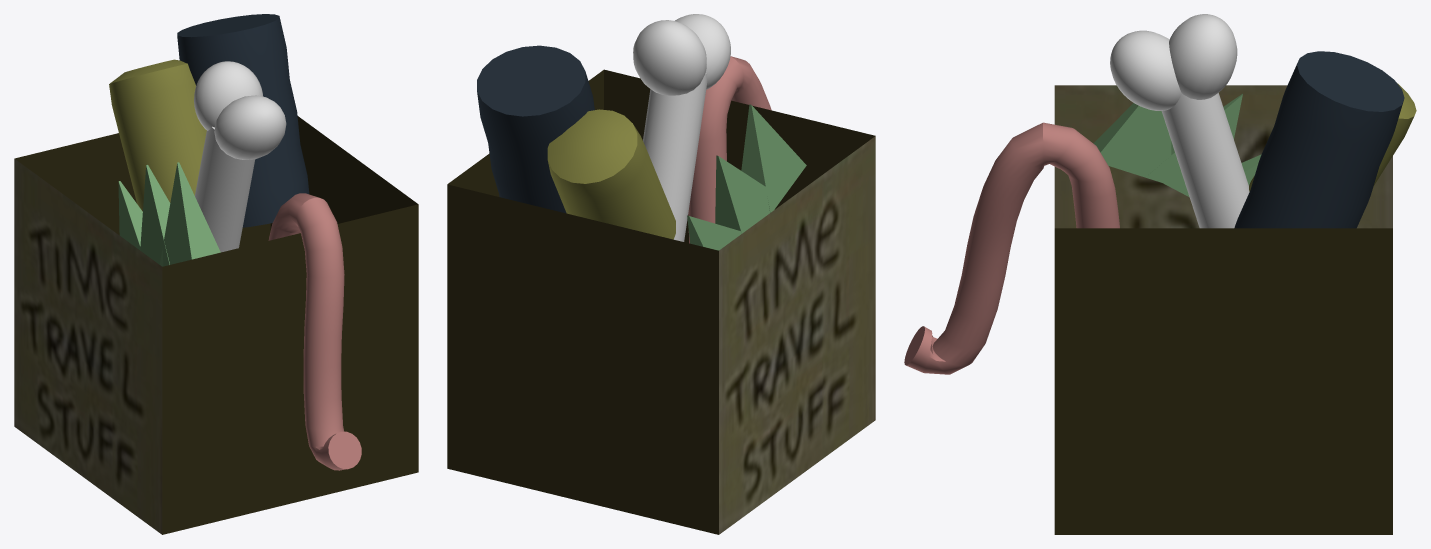
Rendered from caja.obj.
The picture shows the model from 3 angles, left to right: view 1: azimuth 30°, elevation 25°; view 2: azimuth 150°, elevation 25°; view 3: azimuth 270°, elevation 25°; orthographic projection. The views are drawn at different scales.
Parts seen in each view (by area): view 1: polySurface5618; view 2: polySurface5618; view 3: polySurface5618.
Boxes of the visible parts, <box> form: polySurface5618: <box>14,14,418,534</box>; polySurface5618: <box>447,14,875,534</box>; polySurface5618: <box>904,14,1416,534</box>.
Size of the model in its own units: 1.78 by 2.59 by 2.69.
Materials: 8 (6 with a texture image).
